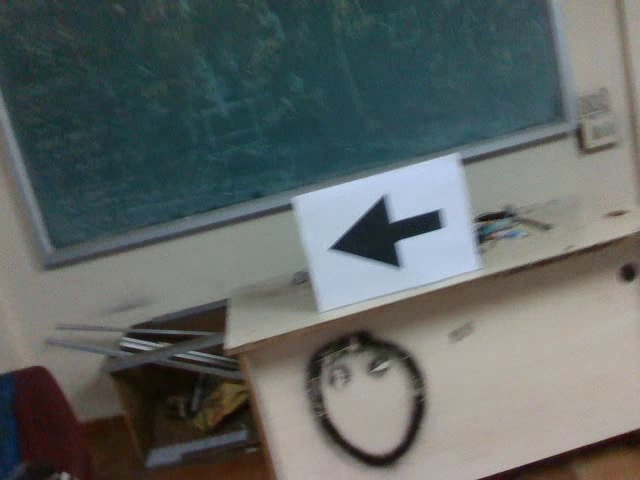Left: (323, 192, 447, 273)
